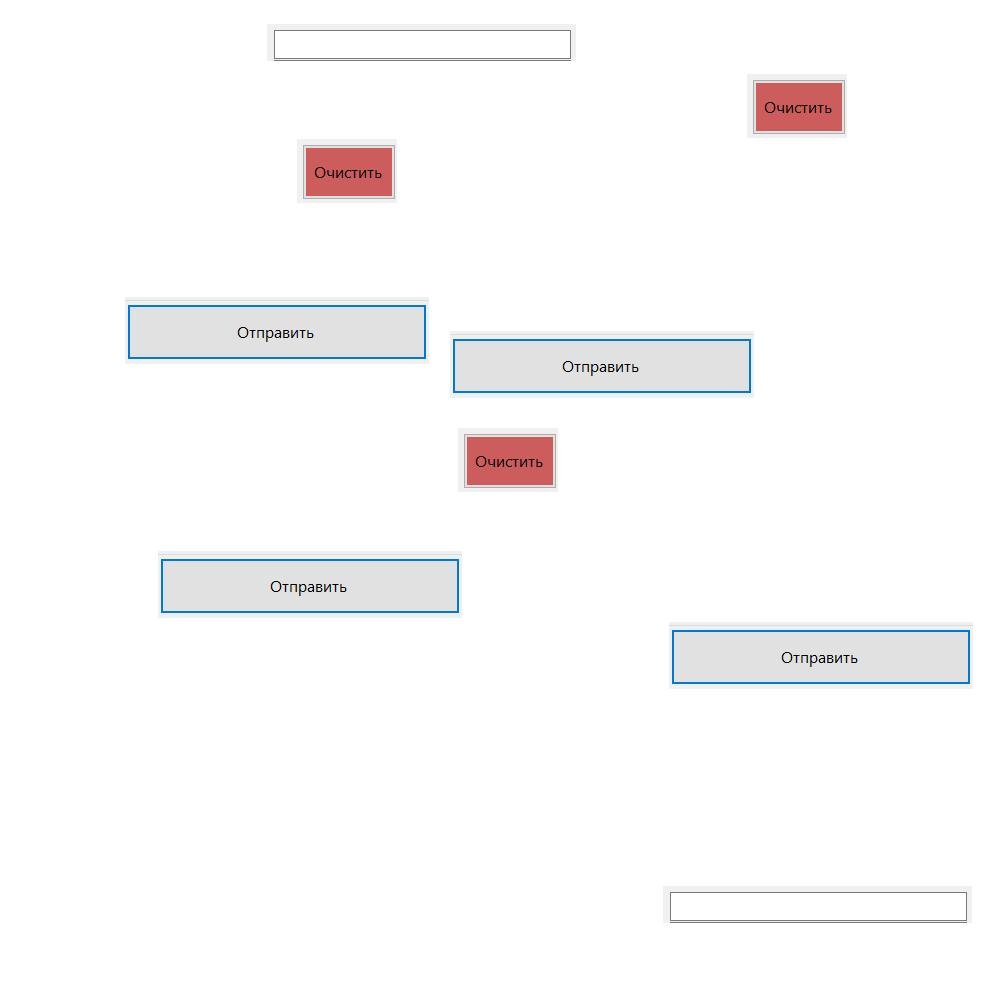Button: (669, 622, 973, 689), (158, 551, 462, 618), (450, 331, 754, 398), (125, 297, 429, 364), (297, 139, 397, 203), (747, 74, 847, 138), (458, 428, 558, 492)
EditText-: (267, 24, 576, 61), (663, 886, 972, 923)
